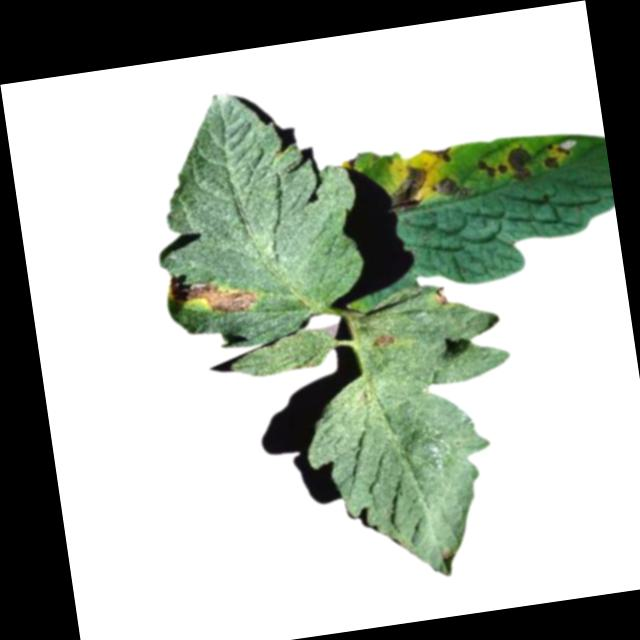Early_blight: (163, 259, 271, 320), (383, 165, 432, 214), (504, 138, 537, 181), (539, 132, 576, 169), (476, 151, 508, 180), (436, 173, 467, 201), (424, 142, 456, 167), (374, 329, 402, 350), (434, 283, 452, 307)
